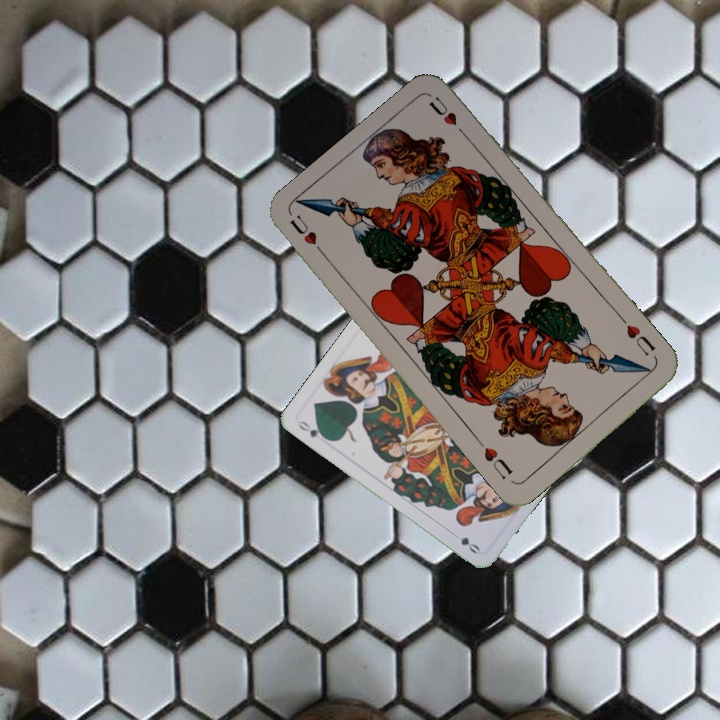GO: (294, 417, 331, 442)
HU: (286, 211, 330, 262), (617, 314, 658, 359)
